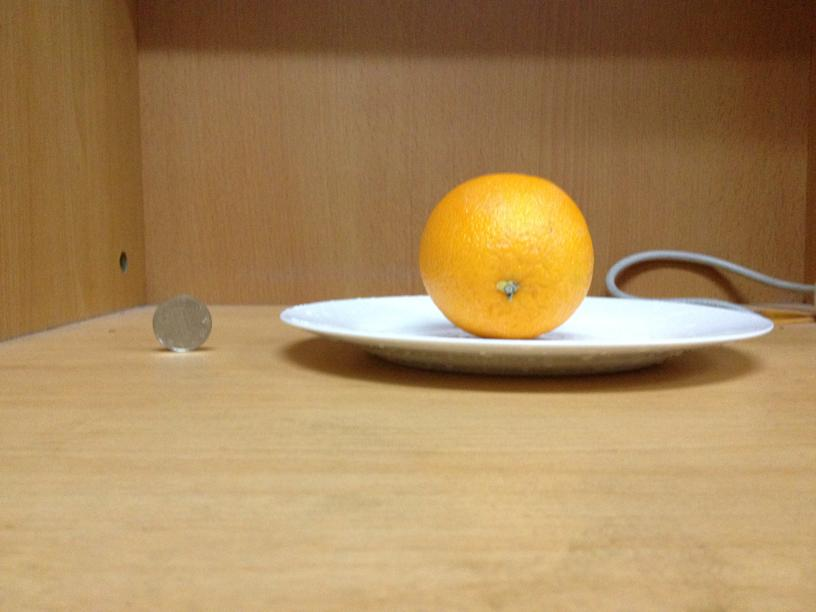coin: (148, 296, 212, 351)
orange: (412, 168, 595, 337)
